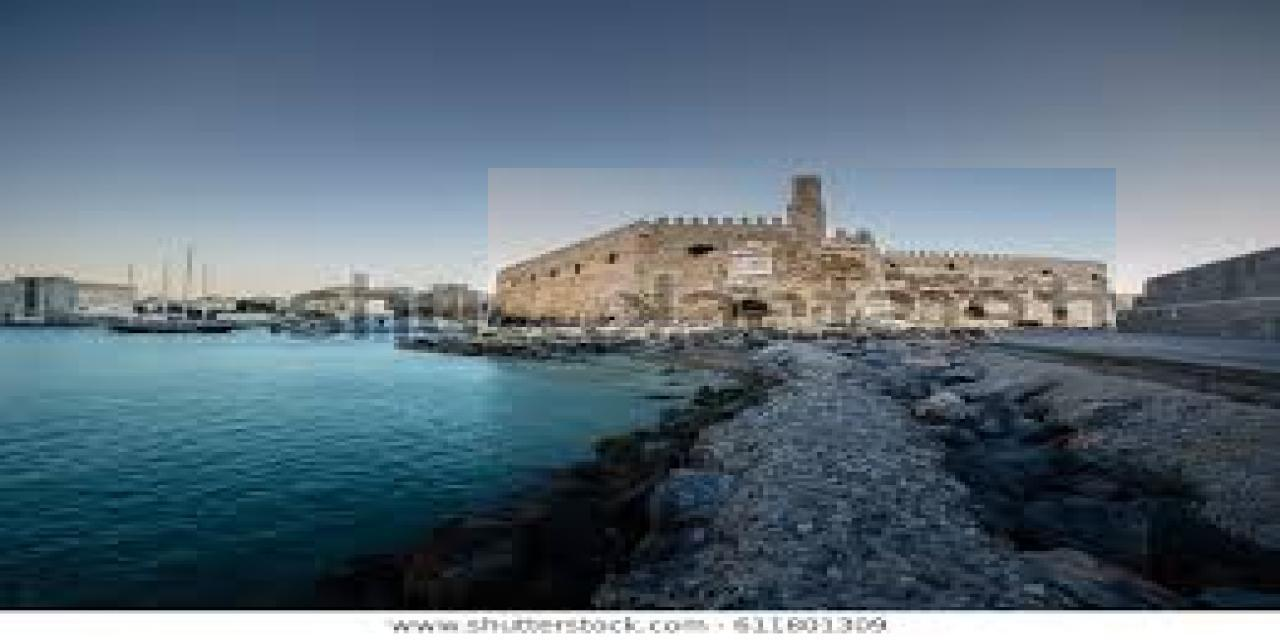Kules: (489, 169, 1117, 328)
